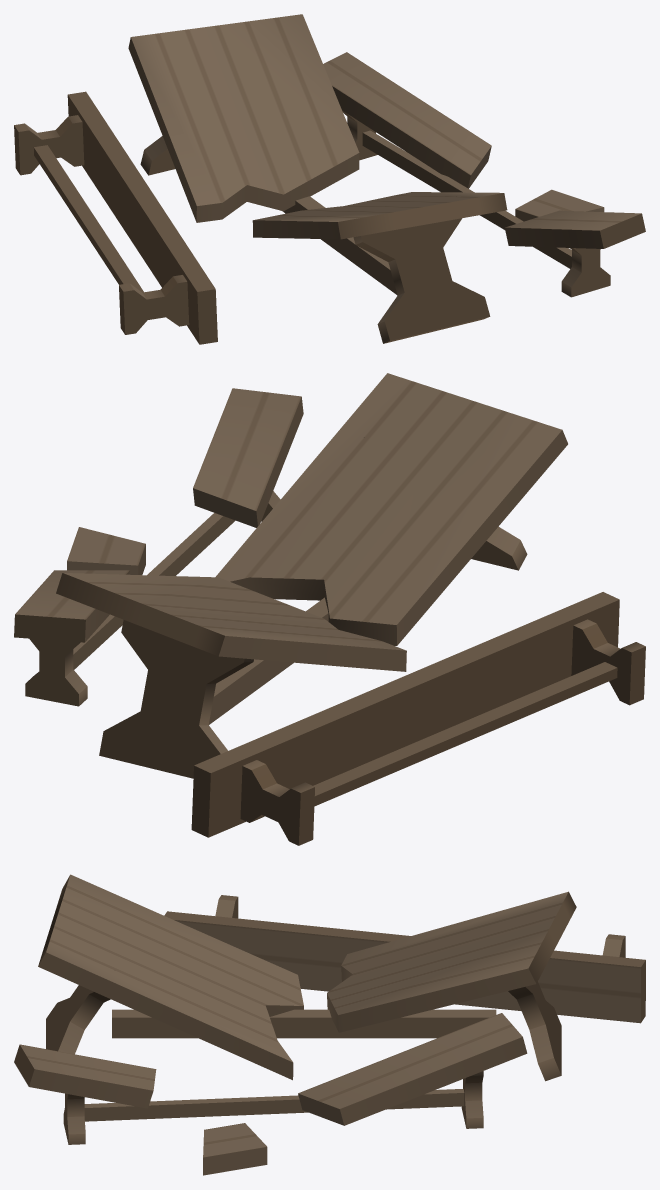
The model's file is SD_Prop_Table_02.fbx.
3 views of the same model, one above another, from view 1: azimuth 30°, elevation 25°; view 2: azimuth 150°, elevation 25°; view 3: azimuth 270°, elevation 25° (orthographic). The views are drawn at different scales.
Visible parts, largest first — view 1: SD_Prop_Table_02; view 2: SD_Prop_Table_02; view 3: SD_Prop_Table_02.
Part boxes in pixels (box(x1,y1,x2,y2)): SD_Prop_Table_02: box(14, 14, 645, 344); SD_Prop_Table_02: box(14, 373, 645, 845); SD_Prop_Table_02: box(14, 874, 645, 1175).
Bounding box in the file's own units: 5.55 × 1.51 × 6.23.
